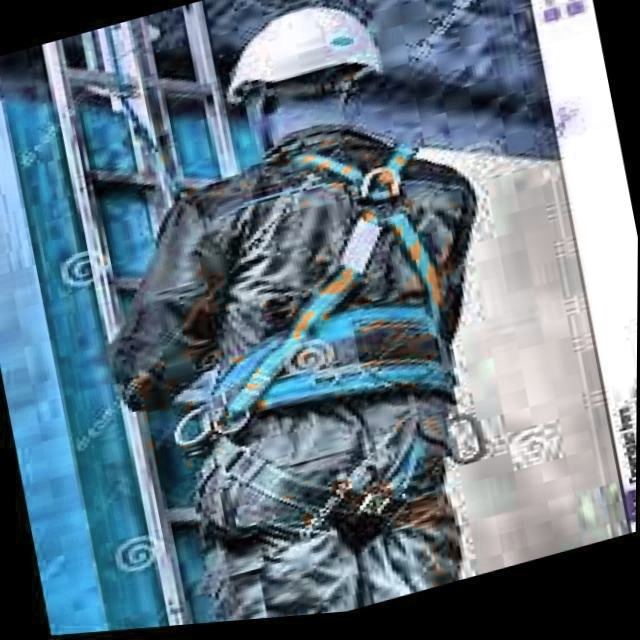safety belt: (174, 152, 486, 426)
